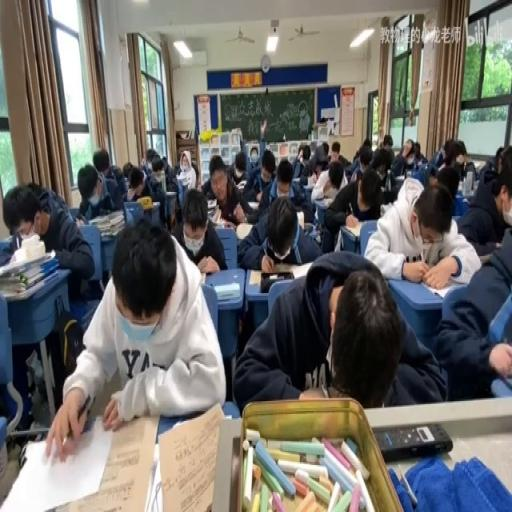calculator: (0, 410, 137, 509), (157, 401, 226, 512), (248, 260, 314, 283), (144, 448, 163, 509), (422, 279, 461, 300), (214, 280, 240, 300), (344, 216, 364, 236), (234, 222, 253, 240), (206, 198, 221, 219), (174, 171, 190, 186), (0, 234, 13, 252), (210, 219, 232, 228), (303, 175, 317, 189), (380, 200, 394, 214), (334, 228, 342, 252), (314, 195, 331, 206), (295, 209, 304, 229), (142, 199, 158, 208), (74, 215, 85, 226), (246, 201, 260, 209), (198, 270, 206, 284), (393, 172, 405, 181), (235, 179, 246, 188), (291, 176, 302, 185), (163, 189, 176, 196), (405, 168, 412, 178)
paper: (50, 215, 224, 461), (233, 253, 437, 414), (365, 169, 480, 286), (3, 179, 93, 299), (237, 191, 319, 270), (170, 182, 226, 270), (325, 162, 384, 240), (76, 161, 123, 222), (140, 156, 178, 220), (378, 145, 408, 195), (228, 146, 250, 190), (434, 164, 460, 200), (298, 142, 321, 181), (426, 139, 448, 172), (448, 140, 467, 174), (328, 139, 350, 168), (92, 148, 110, 176), (418, 162, 434, 186), (328, 164, 342, 189), (170, 198, 180, 228), (262, 155, 274, 179), (208, 152, 222, 172), (190, 161, 199, 189), (380, 132, 394, 148), (494, 145, 504, 166), (122, 161, 133, 179), (248, 146, 258, 165), (152, 161, 162, 176), (139, 158, 149, 173), (362, 136, 372, 150), (322, 141, 330, 158), (146, 148, 155, 163), (413, 141, 420, 158), (350, 168, 358, 182), (182, 156, 188, 168), (160, 155, 166, 164)
person: (374, 422, 451, 461)
